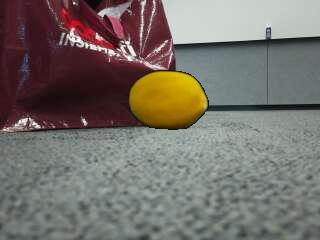lemon: (131, 72, 209, 130)
